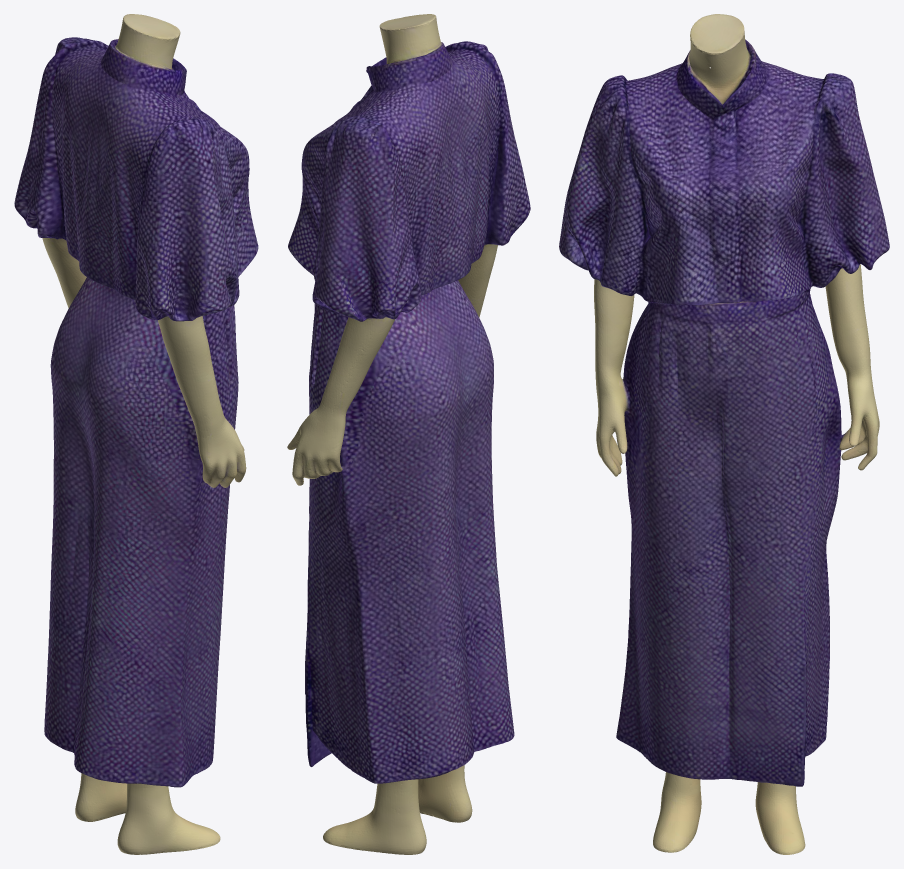
File: thai_silk_pattern_2_ZEGspdC.glb
The picture shows the model from 3 angles, left to right: view 1: azimuth 30°, elevation 25°; view 2: azimuth 150°, elevation 25°; view 3: azimuth 270°, elevation 25°; orthographic projection.
Parts seen in each view (by area): view 1: tripo_node_7874b381-9a3e-48a7-9d0c-63c05e8b038d; view 2: tripo_node_7874b381-9a3e-48a7-9d0c-63c05e8b038d; view 3: tripo_node_7874b381-9a3e-48a7-9d0c-63c05e8b038d.
Part boxes in pixels (x1=…): tripo_node_7874b381-9a3e-48a7-9d0c-63c05e8b038d: x1=14, y1=14, x2=258, y2=854; tripo_node_7874b381-9a3e-48a7-9d0c-63c05e8b038d: x1=287, y1=14, x2=530, y2=854; tripo_node_7874b381-9a3e-48a7-9d0c-63c05e8b038d: x1=559, y1=14, x2=889, y2=854.
Bounding box in the file's own units: 0.2326 × 1 × 0.3718.
1 material, 1 textured.
